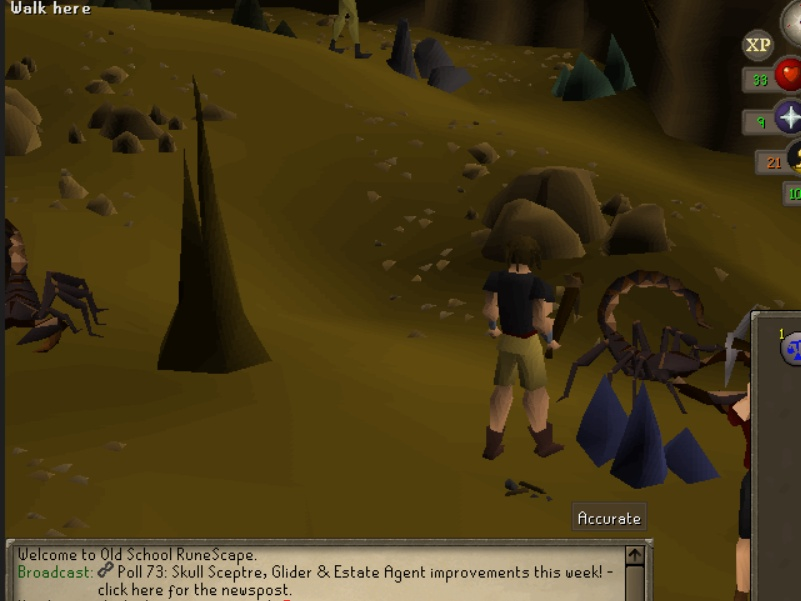adamant: (546, 27, 643, 108)
coal: (228, 1, 302, 43)
mithril: (573, 366, 727, 496)
